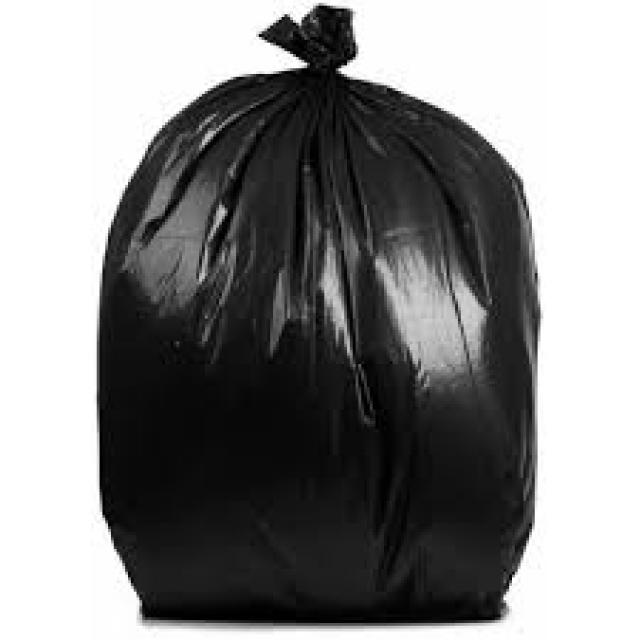plastic_bag: (83, 35, 533, 616)
